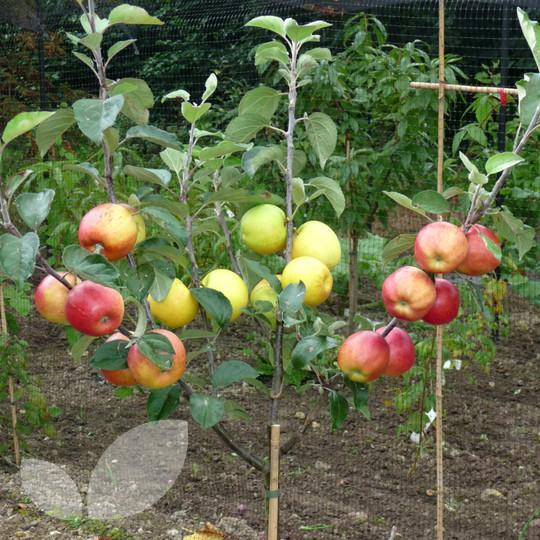apple: (77, 200, 139, 262), (127, 327, 187, 389), (377, 265, 439, 322), (334, 325, 390, 384), (65, 279, 124, 333), (412, 221, 466, 274), (199, 267, 249, 322), (147, 277, 198, 329), (279, 257, 330, 309), (288, 220, 340, 270), (238, 202, 286, 256), (32, 274, 74, 326), (377, 325, 418, 378), (460, 225, 501, 275), (100, 333, 135, 388), (425, 277, 460, 326)
